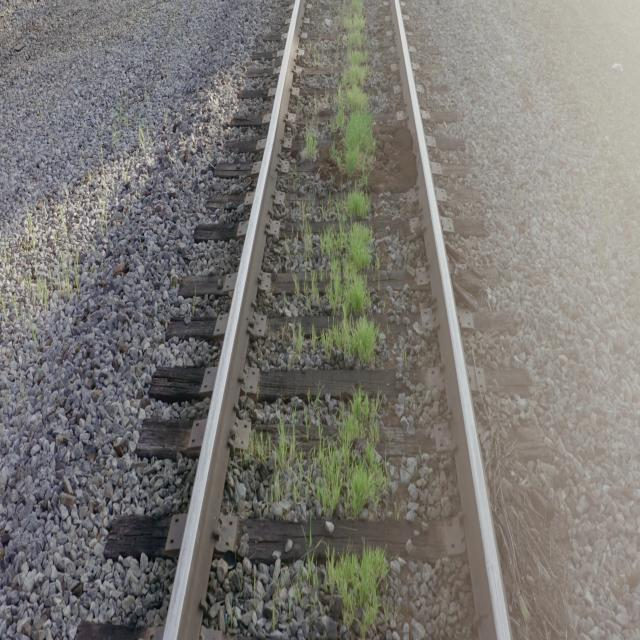Plant: (311, 0, 379, 369), (311, 389, 389, 518), (326, 547, 388, 638), (328, 549, 389, 636), (276, 431, 296, 464), (302, 213, 315, 262), (305, 124, 319, 160), (305, 276, 320, 304)
